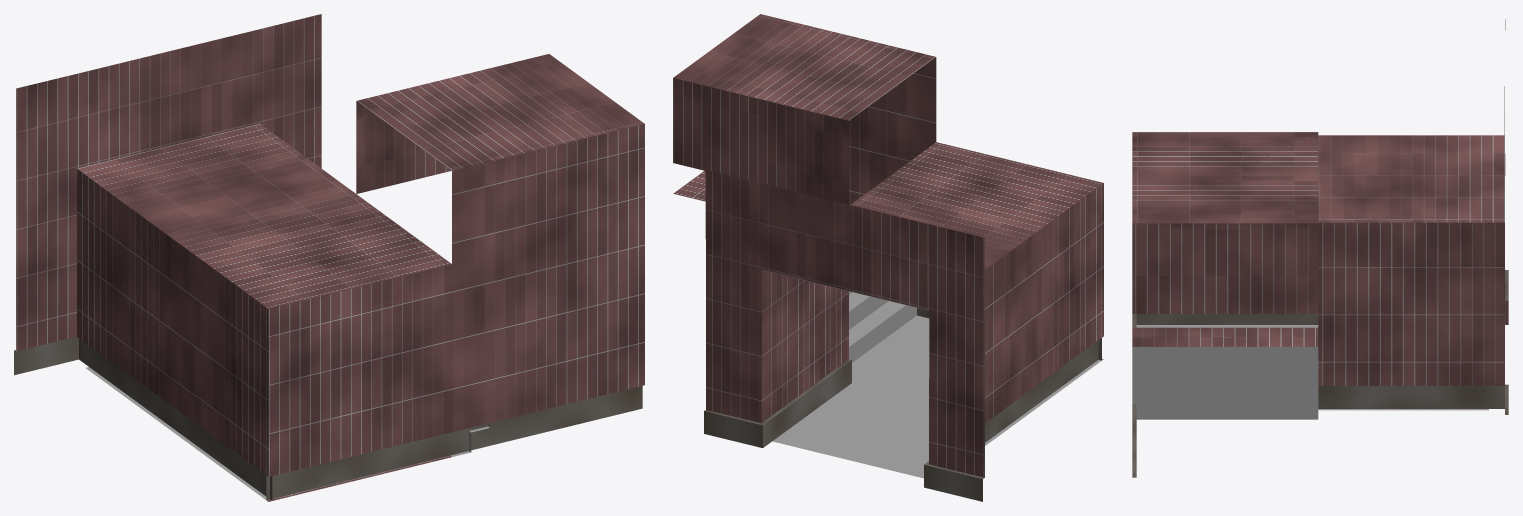
Rendered from Color_Exit1.fbx.
3 views of the same model, side by side, from view 1: azimuth 30°, elevation 25°; view 2: azimuth 150°, elevation 25°; view 3: azimuth 270°, elevation 25° (orthographic). The views are drawn at different scales.
Parts seen in each view (by area): view 1: Plane.002; view 2: Plane.002; view 3: Plane.002.
Part boxes in pixels (x1,y1,x2,y2): Plane.002: (14,14,644,501); Plane.002: (673,14,1103,501); Plane.002: (1132,19,1508,477).
Bounding box in the file's own units: 7.15 × 4.5 × 5.47.
2 materials, 1 textured.
